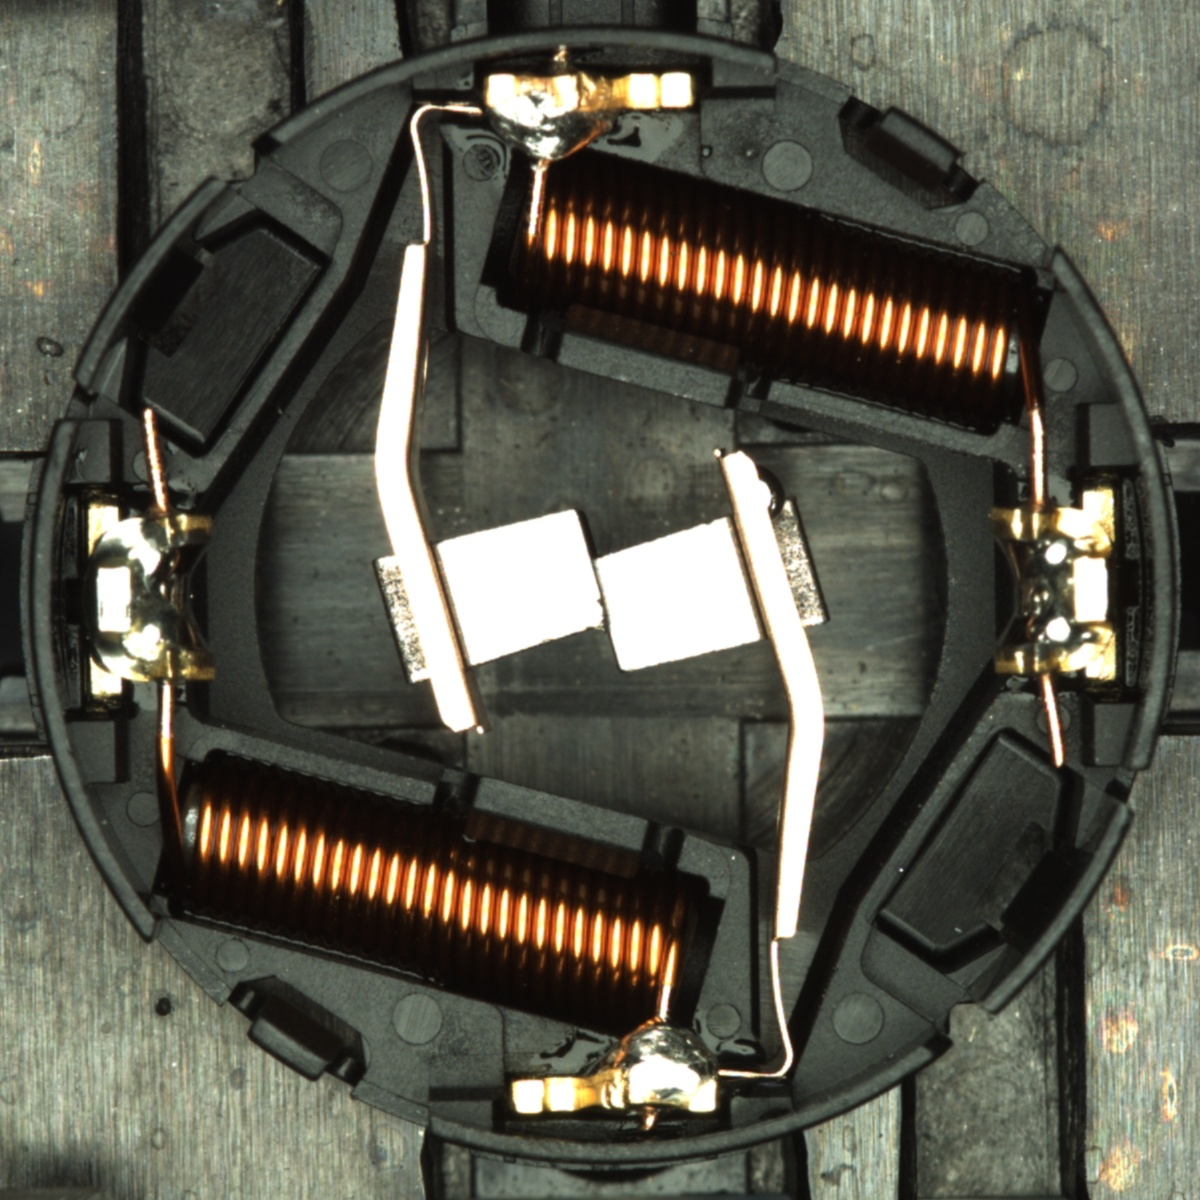1: (258, 55, 487, 279), (716, 953, 945, 1177)
2: (716, 55, 945, 279), (258, 953, 487, 1177)
3: (29, 279, 258, 503), (945, 729, 1175, 953)
4: (258, 279, 487, 503), (716, 729, 945, 953)
5: (487, 167, 716, 391), (487, 841, 716, 1065)
6: (716, 279, 945, 503), (258, 729, 487, 953)
7: (945, 279, 1175, 503), (29, 729, 258, 953)
chau_dien: (984, 487, 1124, 687), (81, 497, 220, 699)
hat_chi: (752, 465, 787, 520)
tay_choi: (481, 69, 701, 170), (509, 1016, 722, 1116)
thanh_de: (954, 787, 1142, 1031), (59, 164, 245, 404)
